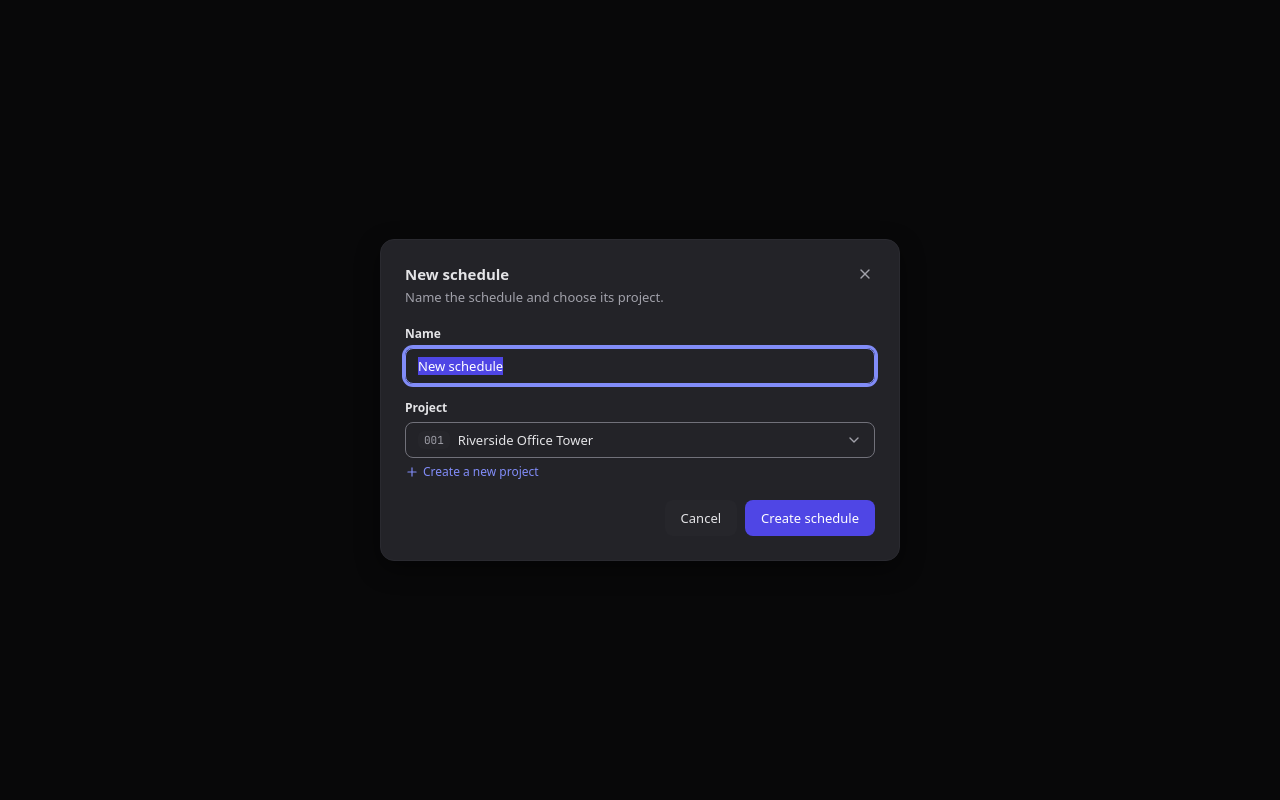
Scenario: NewScheduleDialog › keeps the form open with its values when saving fails
This screenshot has width=1280, height=800.
Expected: the dropdown named "Project" shows "Riverside Office Tower", x1=405 y1=422 x2=875 y2=458
Click the button "Create schedule". click: [810, 518]
box: x1=745 y1=500 x2=875 y2=536
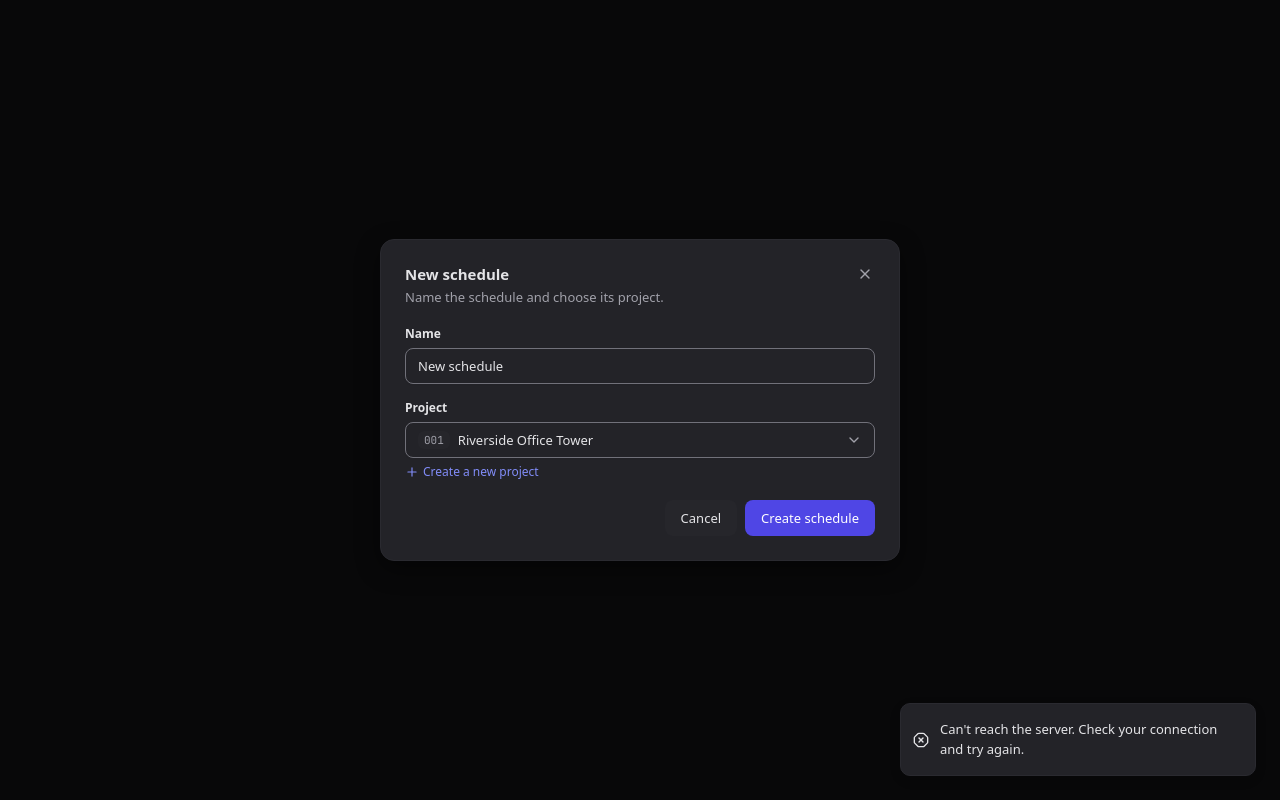
Expected: the field labelled "Name" holds "New schedule", x1=405 y1=348 x2=875 y2=384
Now the text "Can't reach the server. Check your connection and try again." is shown, box x1=940 y1=720 x2=1239 y2=759
